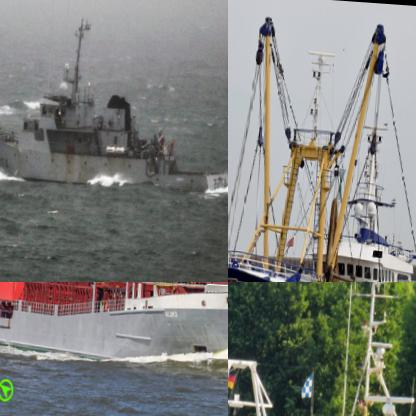Fishing Boat: (228, 12, 415, 281), (228, 282, 415, 415)
Merchant Ship: (0, 282, 227, 375)
Military Ship: (0, 9, 227, 196)
